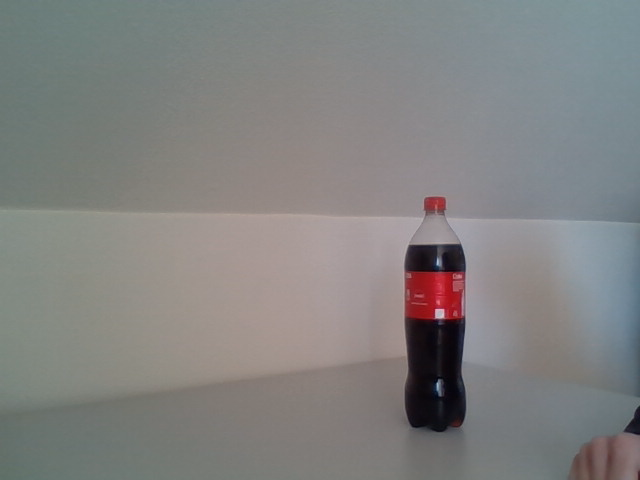bottle: (403, 196, 468, 433)
